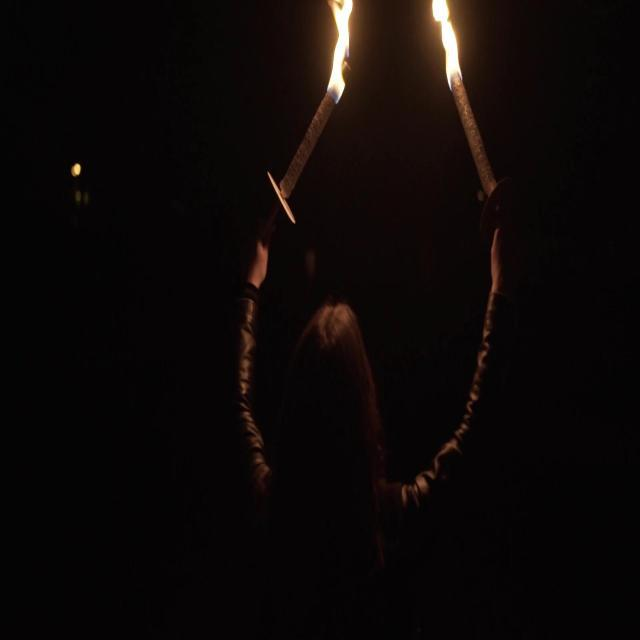Fire: (323, 0, 358, 88), (426, 7, 466, 75)
